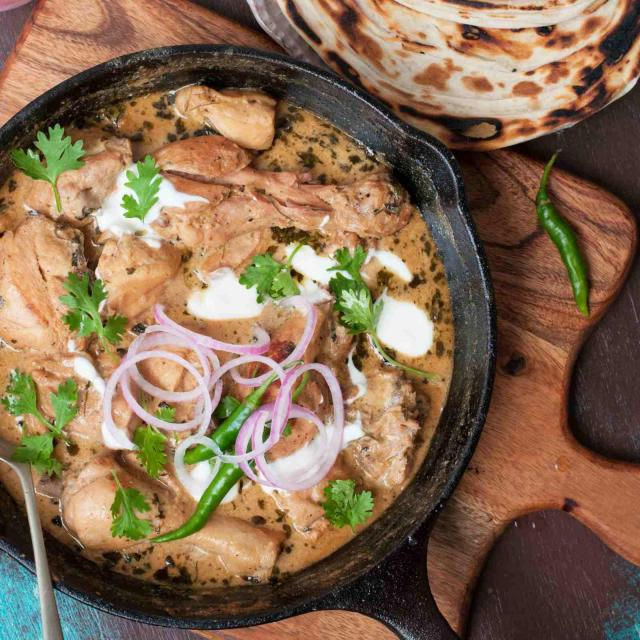chicken: (18, 87, 472, 562)
roti: (314, 3, 640, 107)
